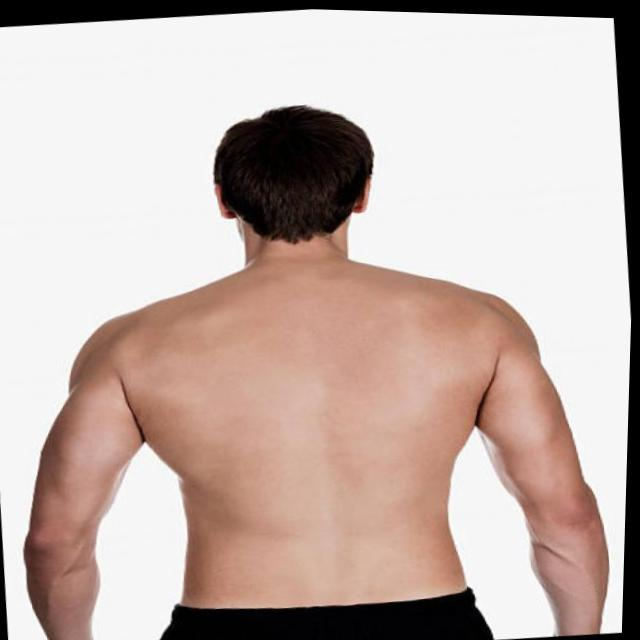no helmet: (206, 89, 388, 266)
